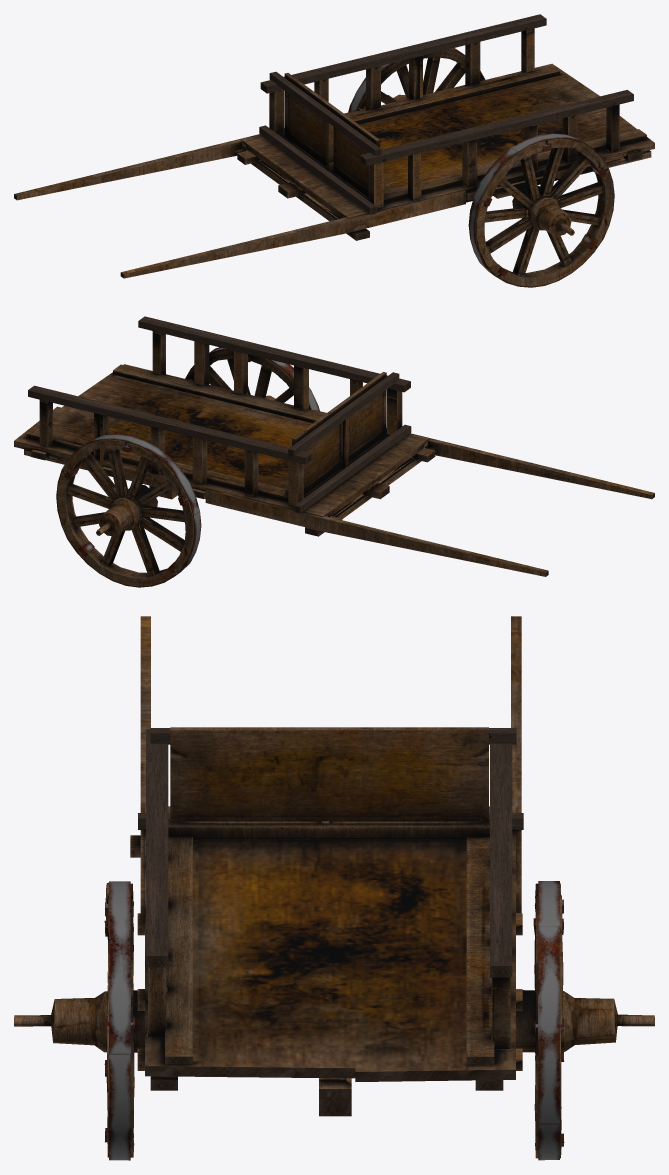
File: wagon.fbx
The picture shows the model from 3 angles, top to bottom: view 1: azimuth 30°, elevation 25°; view 2: azimuth 150°, elevation 25°; view 3: azimuth 270°, elevation 25°; orthographic projection. The views are drawn at different scales.
Parts seen in each view (by area): view 1: 12_LP, 23_LP, 44_LP, 11_LP, 22_LP, 55_LP, 44_LP.001, 11_LP.001; view 2: 12_LP, 23_LP, 44_LP.001, 11_LP.001, 22_LP.001, 55_LP.001, 44_LP, 11_LP, 22_LP; view 3: 12_LP, 23_LP, 22_LP, 22_LP.001, 55_LP.001, 55_LP, 11_LP.001, 11_LP.
Boxes of the visible parts, x1,y1,x2,y2 form: 12_LP: (14, 63, 654, 278); 23_LP: (259, 14, 633, 214); 44_LP: (484, 147, 603, 276); 11_LP: (476, 138, 613, 286); 22_LP: (468, 133, 614, 287); 55_LP: (512, 186, 574, 236); 44_LP.001: (381, 57, 465, 103); 11_LP.001: (357, 49, 483, 110); 12_LP: (14, 364, 654, 576); 23_LP: (28, 316, 411, 513); 44_LP.001: (66, 448, 184, 576); 11_LP.001: (57, 439, 193, 585); 22_LP.001: (56, 434, 201, 587); 55_LP.001: (96, 485, 157, 536); 44_LP: (209, 358, 293, 402); 11_LP: (186, 350, 314, 409); 22_LP: (185, 347, 319, 410); 12_LP: (130, 616, 522, 1116); 23_LP: (138, 727, 523, 1048); 22_LP: (109, 881, 130, 1160); 22_LP.001: (538, 881, 559, 1160); 55_LP.001: (516, 990, 654, 1052); 55_LP: (14, 990, 144, 1052); 11_LP.001: (534, 883, 563, 1158); 11_LP: (105, 882, 134, 1157).
Bounding box in the file's own units: 2064 × 615 × 1219.
Materials: 1 (1 with a texture image).
